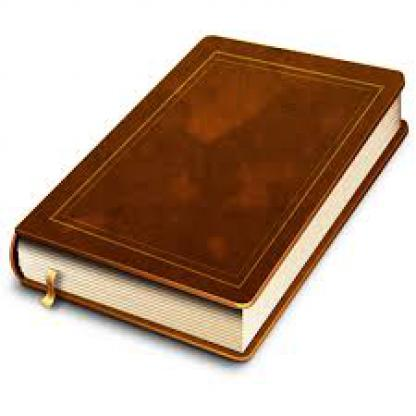paper: (9, 33, 407, 361)
